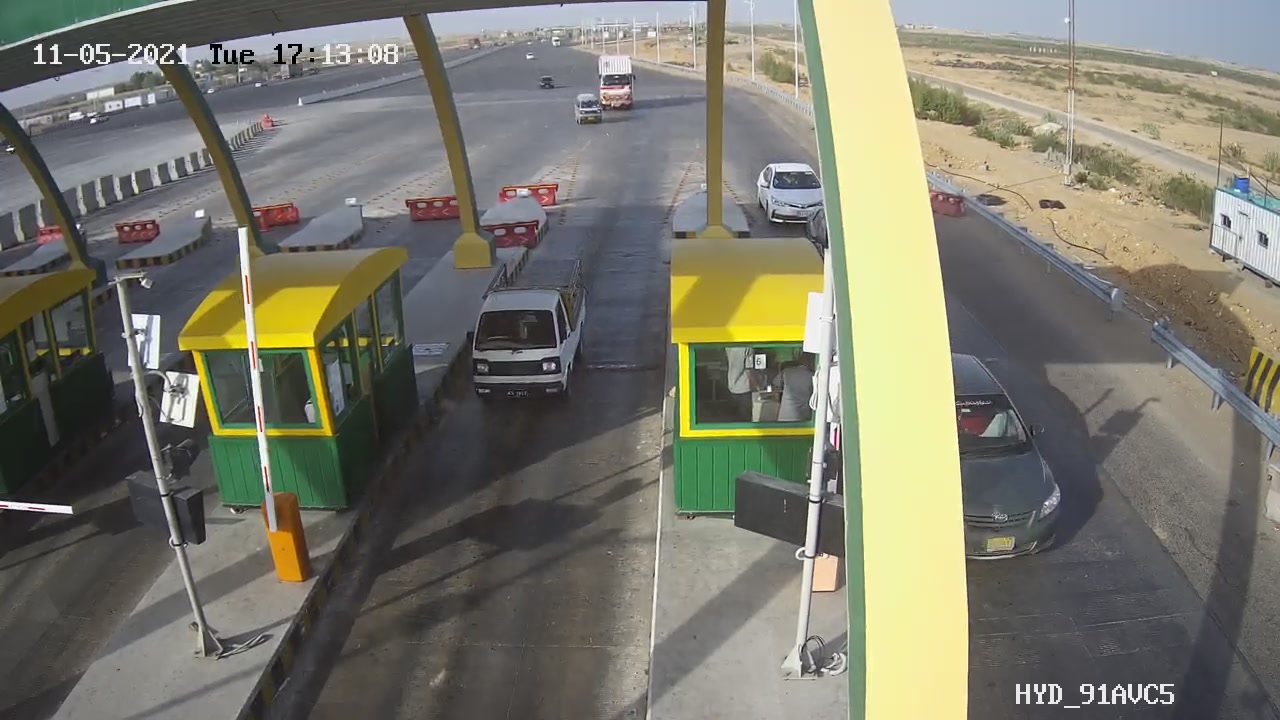F1: (447, 243, 608, 426)
